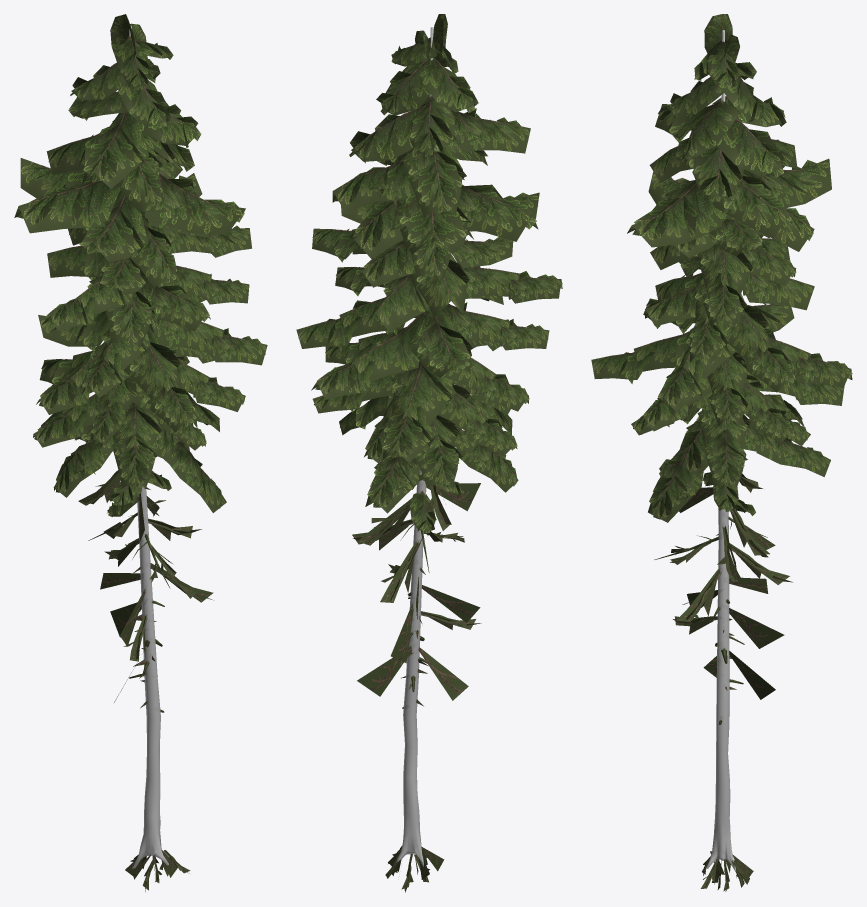
Rendered from SM_Pine01.obj.
The picture shows the model from 3 angles, left to right: view 1: azimuth 30°, elevation 25°; view 2: azimuth 150°, elevation 25°; view 3: azimuth 270°, elevation 25°; orthographic projection.
Visible parts, largest first — view 1: SM_Pine01, SM_Pine01.001_SM_Pine01.002; view 2: SM_Pine01, SM_Pine01.001_SM_Pine01.002; view 3: SM_Pine01, SM_Pine01.001_SM_Pine01.002.
Part boxes in pixels (left/top/right/bottom): SM_Pine01: left=14, top=14, right=267, bottom=891; SM_Pine01.001_SM_Pine01.002: left=129, top=25, right=168, bottom=868; SM_Pine01: left=296, top=14, right=562, bottom=892; SM_Pine01.001_SM_Pine01.002: left=396, top=27, right=433, bottom=867; SM_Pine01: left=591, top=14, right=852, bottom=891; SM_Pine01.001_SM_Pine01.002: left=706, top=30, right=736, bottom=870.
Bounding box in the file's own units: 3.24 × 11.96 × 3.29.
